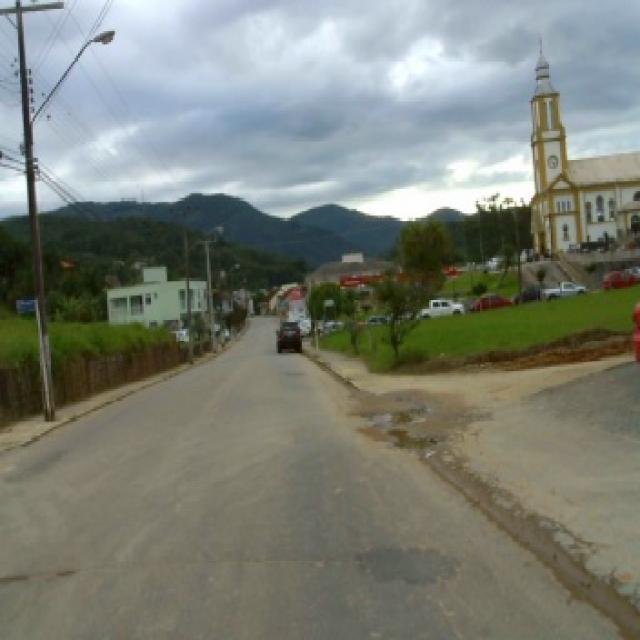Poth-hole: (354, 389, 451, 451), (0, 562, 78, 584)
